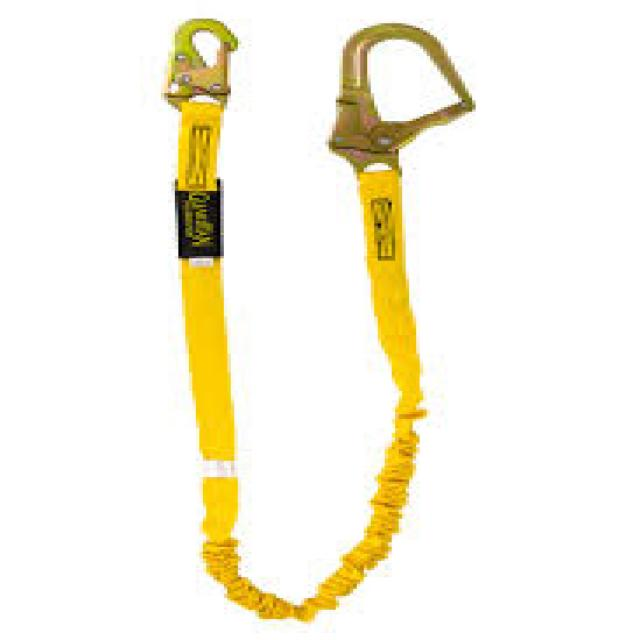harness: (149, 13, 483, 627)
